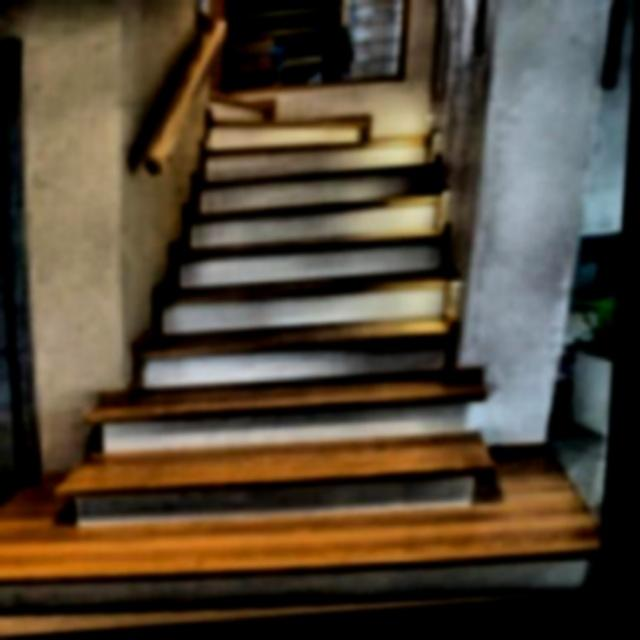stair: (54, 96, 506, 550)
